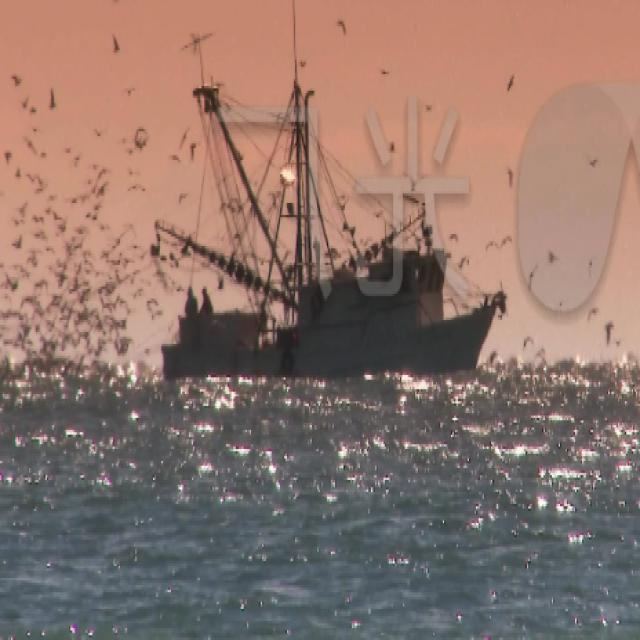fishing boat: (160, 68, 510, 381)
